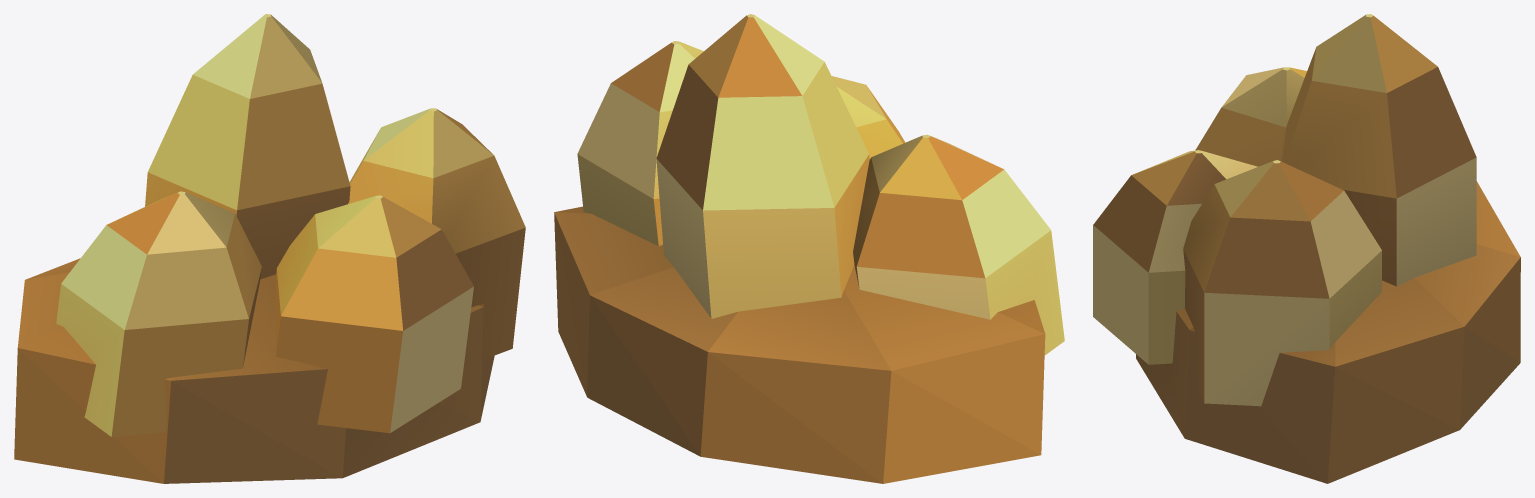
The model's file is find_gold_resin.glb.
3 renders of one model, left to right at view 1: azimuth 30°, elevation 25°; view 2: azimuth 150°, elevation 25°; view 3: azimuth 270°, elevation 25°, orthographic. The views are drawn at different scales.
Parts seen in each view (by area): view 1: find_gold_resin; view 2: find_gold_resin; view 3: find_gold_resin.
Boxes of the visible parts, x1,y1,x2,y2 form: find_gold_resin: (14,14,525,483); find_gold_resin: (554,14,1064,483); find_gold_resin: (1093,14,1520,483).
Bounding box in the file's own units: 0.5572 × 0.47 × 0.4385.
